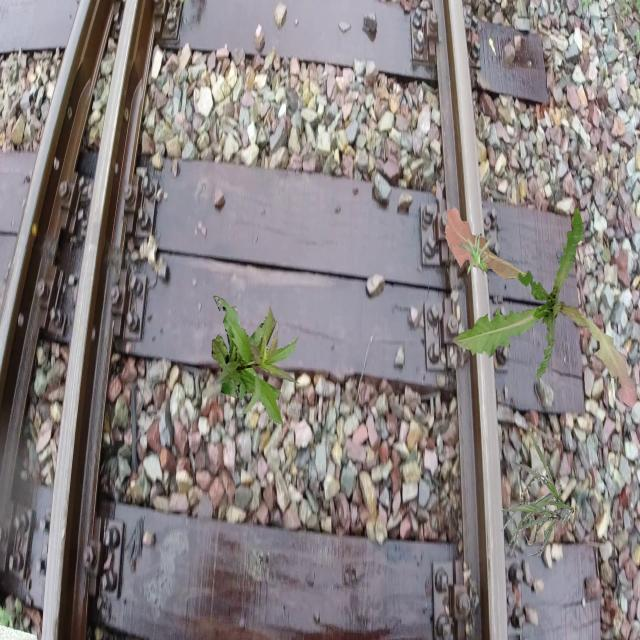Plant: (445, 206, 638, 408), (212, 296, 300, 426), (501, 431, 574, 556), (459, 230, 492, 276)
